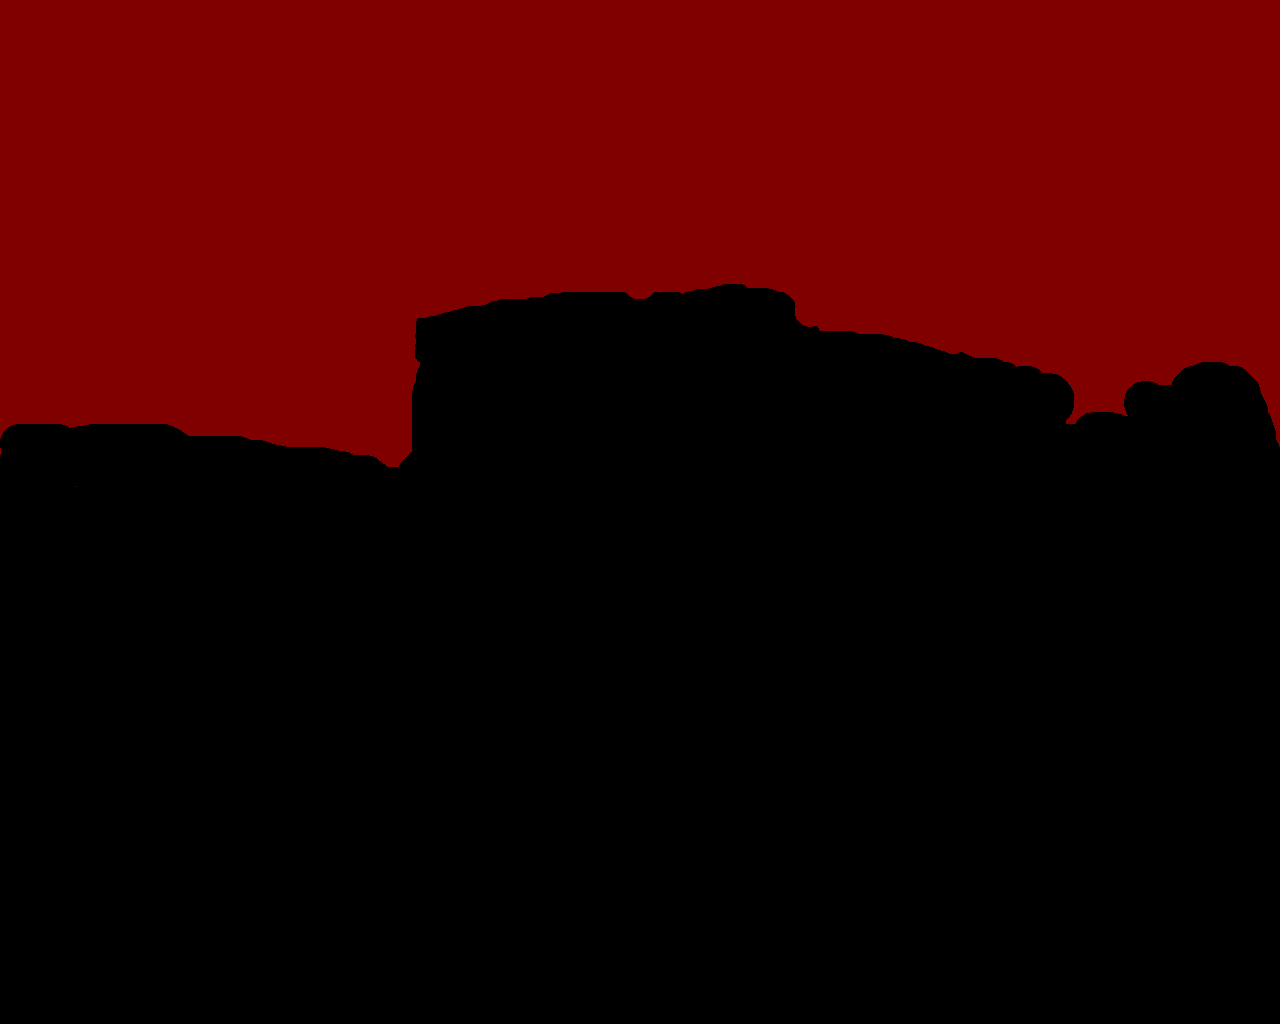Sky: (1, 1, 1279, 487)
